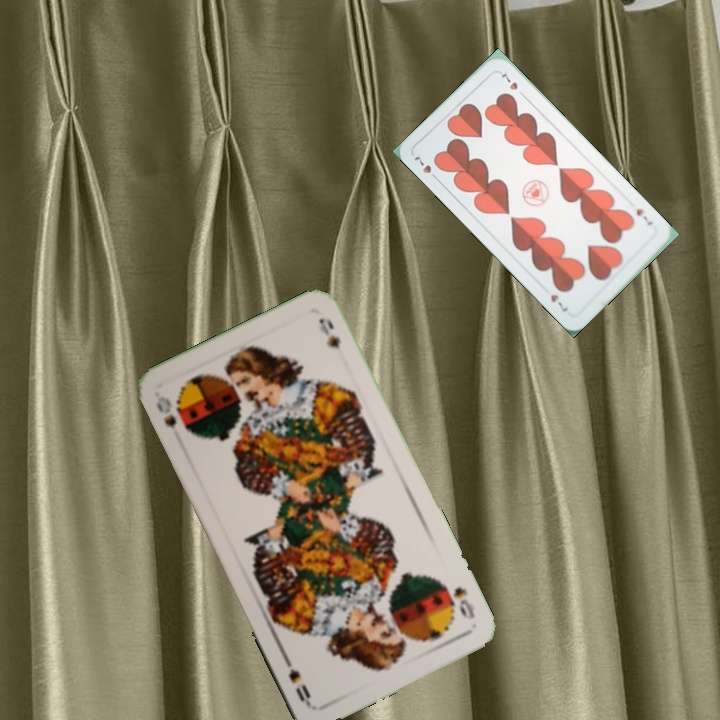H7: (410, 151, 442, 184), (632, 204, 655, 228)
SO: (439, 580, 478, 622), (152, 392, 179, 430)
